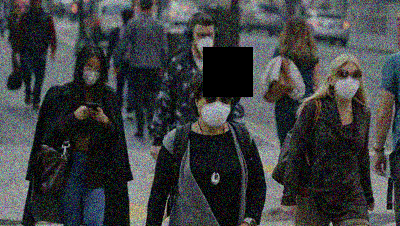with_mask: (200, 91, 234, 128), (194, 30, 216, 56), (82, 63, 103, 87)
